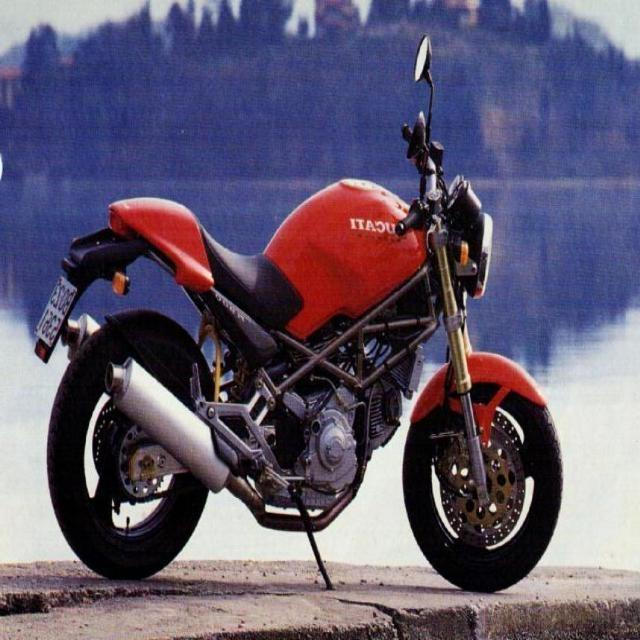Motorcycle: (44, 97, 571, 592)
